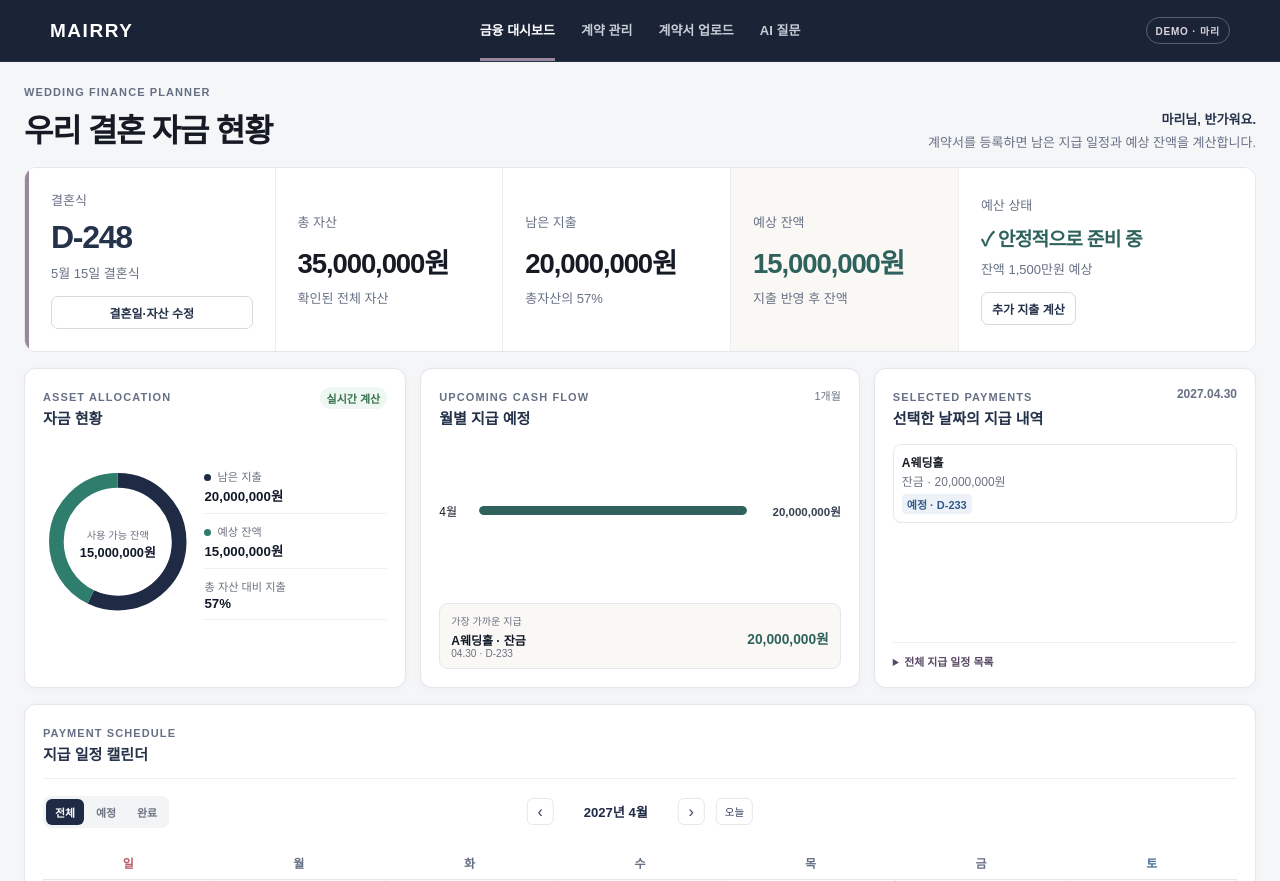
Test case: DashboardPage › clears an old simulation result when the input changes
Expected: the heading "지급 일정 캘린더" is shown, [43,746,148,763]
Step 1. Click the button "추가 지출 계산" → (1028,308), box [981,292,1076,324]
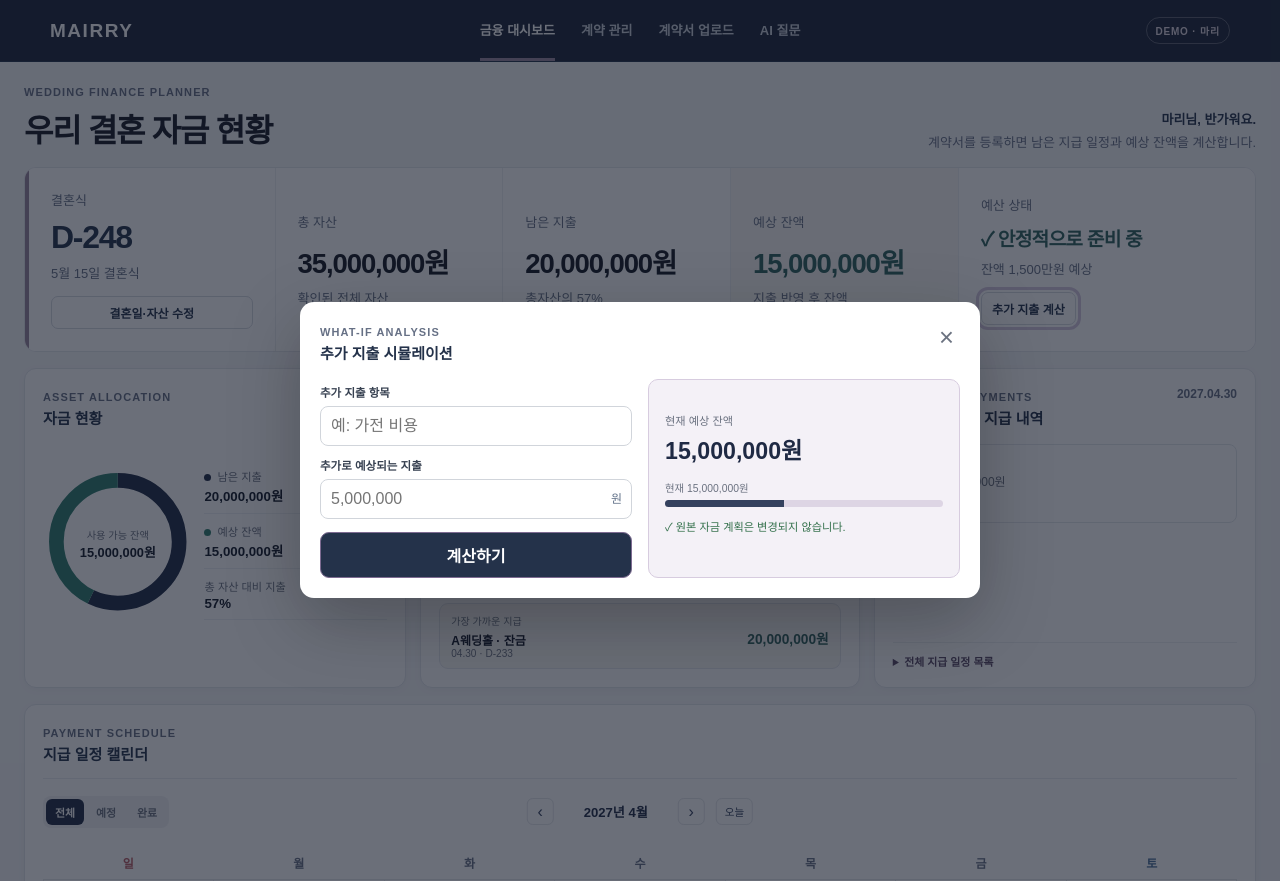
Step 2. Type "가전 비용" into the field labelled "추가 지출 항목" → (476,426), box [320,406,632,446]
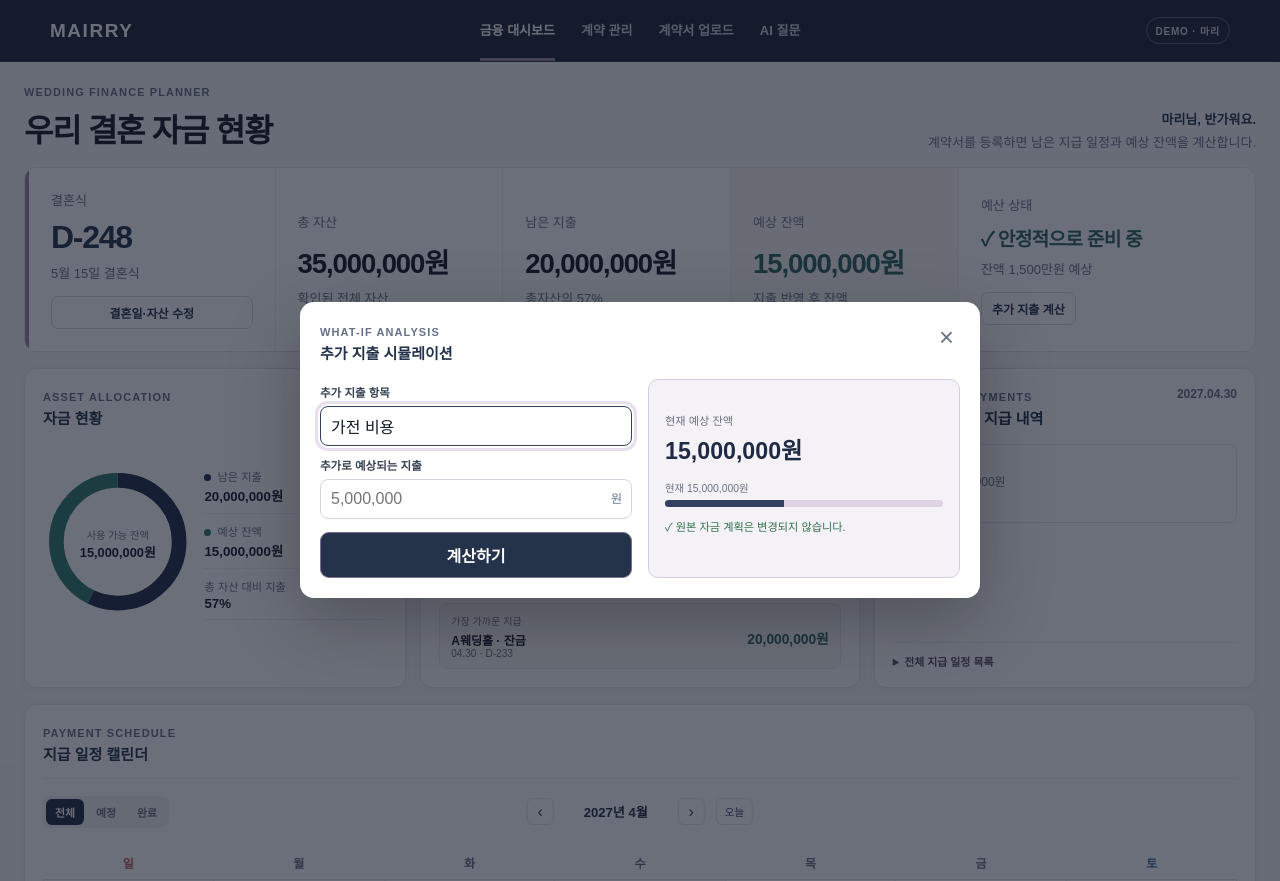
Step 3. Type "23000000" into the field labelled "추가로 예상되는 지출" → (476,499), box [320,479,632,519]
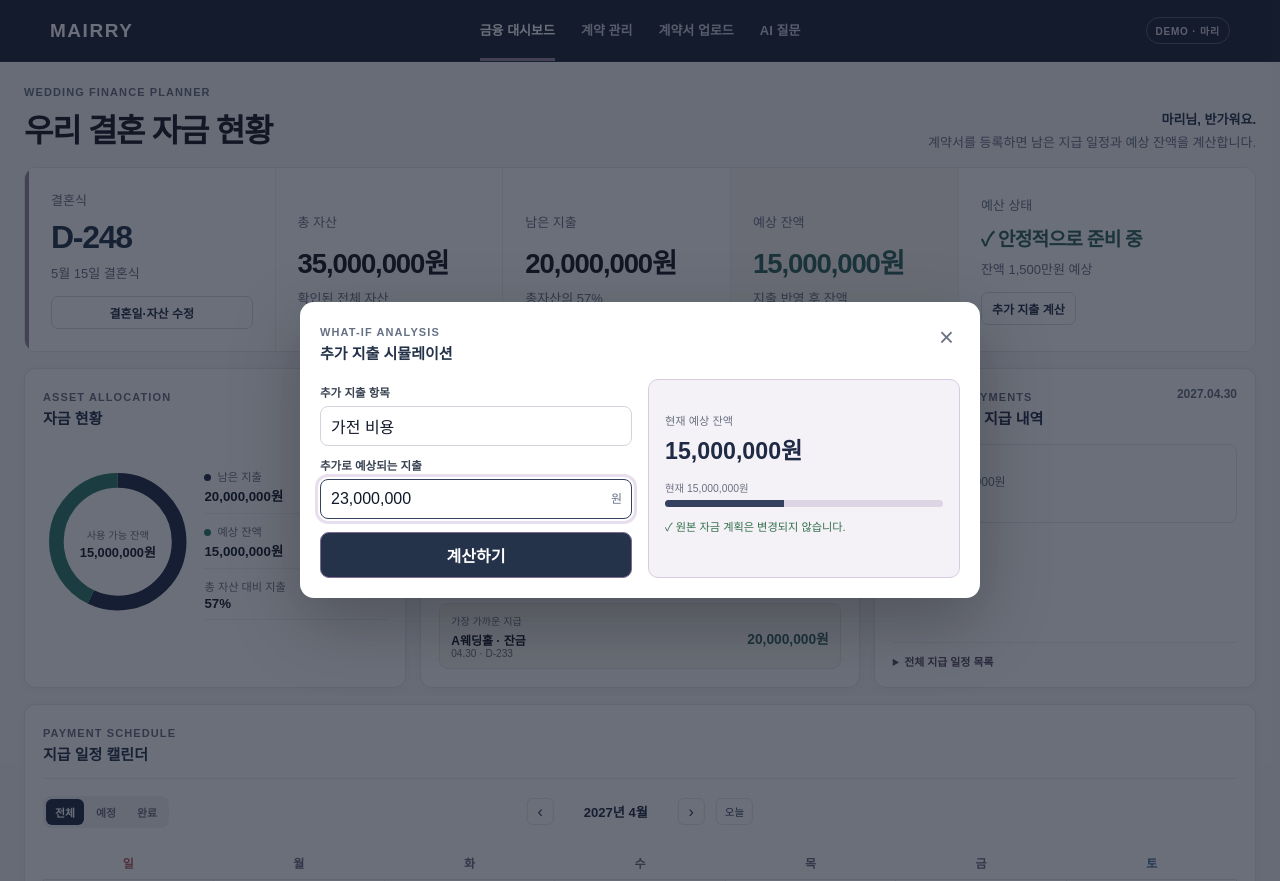
Step 4. Click the button "계산하기" → (476,555), box [320,532,632,578]
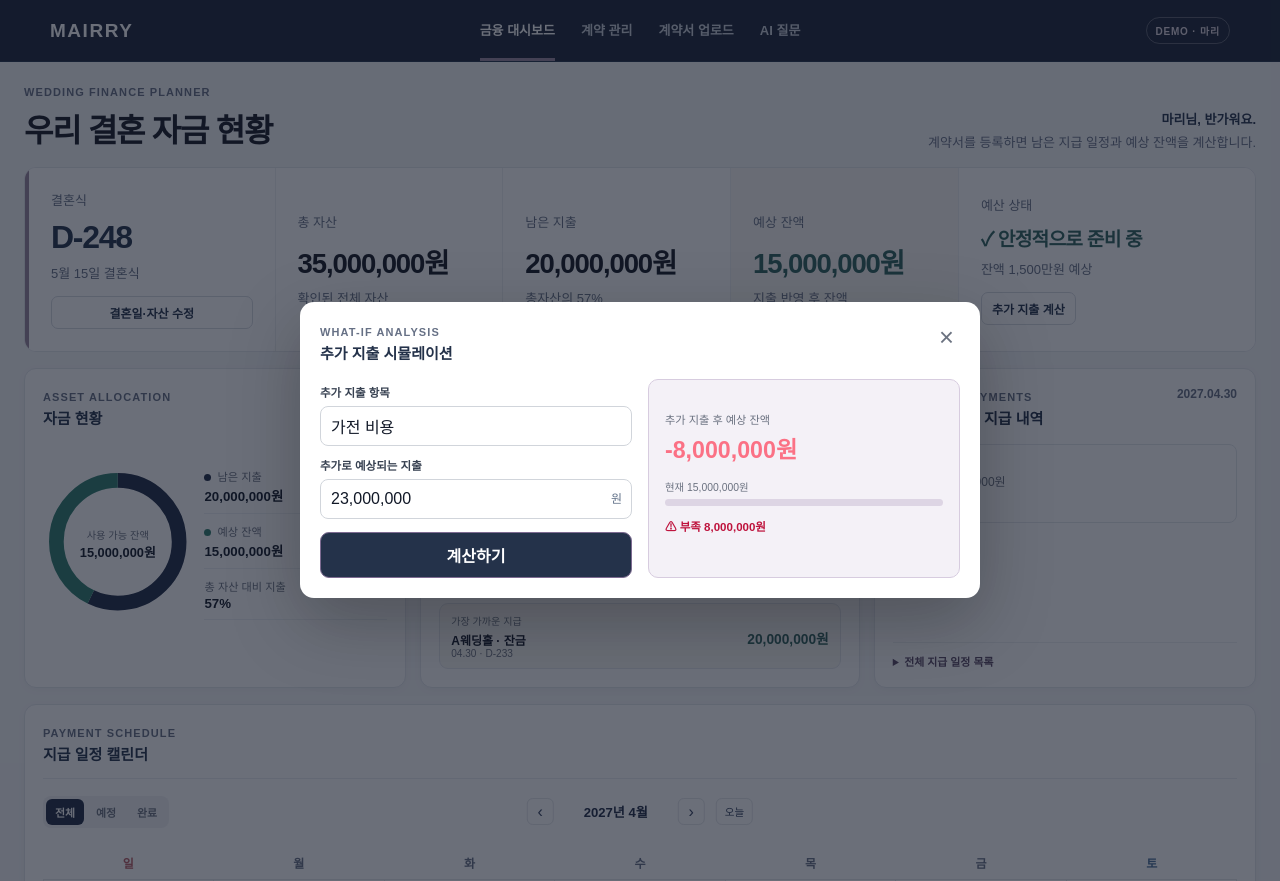
Result: the text "⚠ 부족 8,000,000원" is shown at [665,521,766,533]
Step 5. Type "0" into the field labelled "추가로 예상되는 지출" → (476,499), box [320,479,632,519]
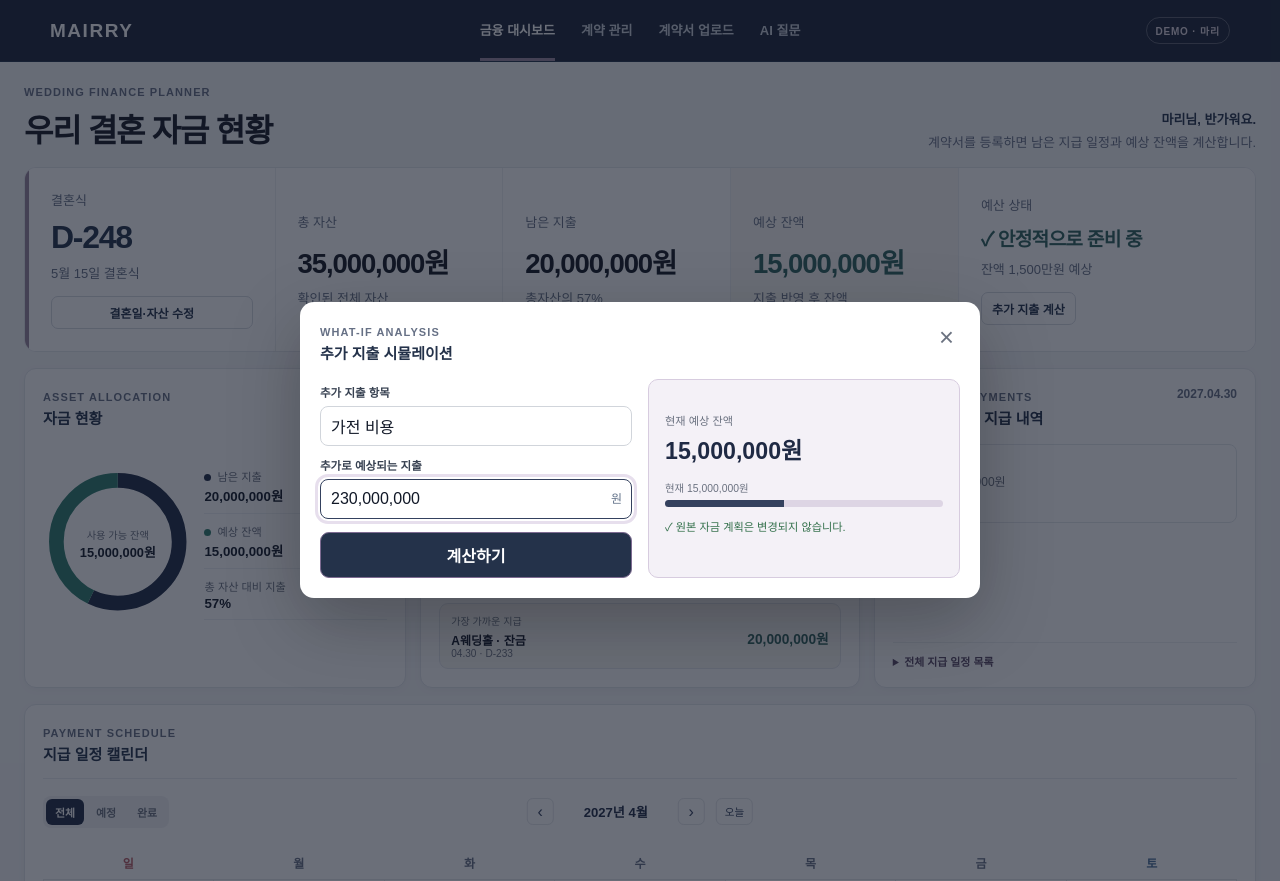
Result: the text "⚠ 부족 8,000,000원" is gone
Result: the text "현재 예상 잔액" is shown at [665,415,733,427]
